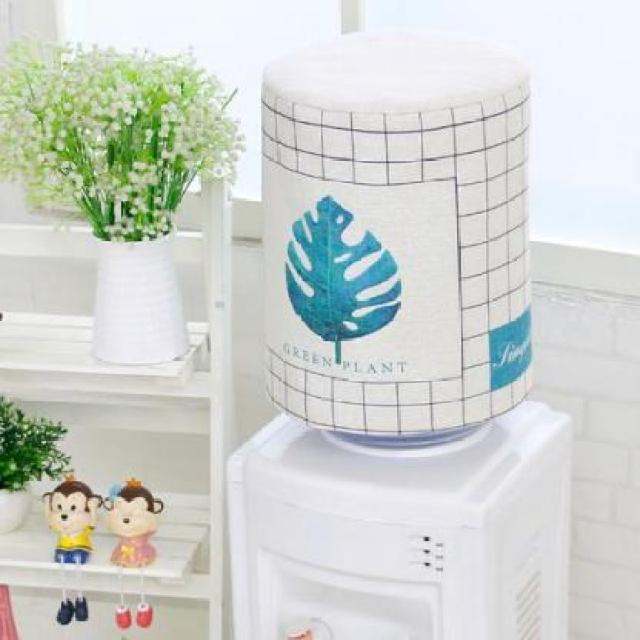coolerbottle: (254, 32, 535, 457)
